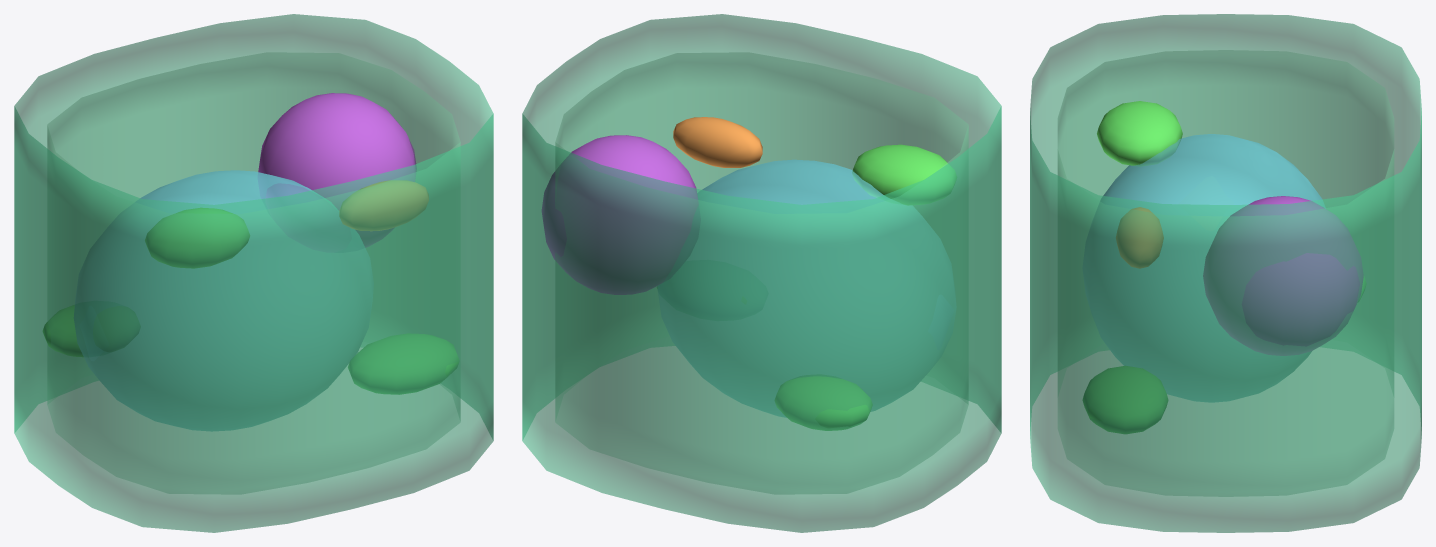
Rendered from plant_cell.glb.
3 views of the same model, side by side, from view 1: azimuth 30°, elevation 25°; view 2: azimuth 150°, elevation 25°; view 3: azimuth 270°, elevation 25° (orthographic).
Visible parts, largest first — view 1: Dinding_Sel, Membran_Sel_Tumbuhan, Vakuol_Besar, Nukleus_Tumbuhan, Kloroplas_1, Kloroplas_2, Mitokondria_Tumbuhan, Kloroplas_3; view 2: Dinding_Sel, Membran_Sel_Tumbuhan, Vakuol_Besar, Nukleus_Tumbuhan, Kloroplas_2, Kloroplas_3, Mitokondria_Tumbuhan; view 3: Dinding_Sel, Membran_Sel_Tumbuhan, Vakuol_Besar, Nukleus_Tumbuhan, Kloroplas_1, Kloroplas_2, Mitokondria_Tumbuhan.
Boxes of the visible parts, x1=… form: Dinding_Sel: x1=14, y1=14, x2=493, y2=532; Membran_Sel_Tumbuhan: x1=47, y1=52, x2=460, y2=493; Vakuol_Besar: x1=74, y1=170, x2=373, y2=431; Nukleus_Tumbuhan: x1=258, y1=93, x2=416, y2=247; Kloroplas_1: x1=348, y1=333, x2=459, y2=394; Kloroplas_2: x1=145, y1=207, x2=249, y2=268; Mitokondria_Tumbuhan: x1=339, y1=180, x2=428, y2=230; Kloroplas_3: x1=42, y1=305, x2=83, y2=356; Dinding_Sel: x1=522, y1=14, x2=1001, y2=532; Membran_Sel_Tumbuhan: x1=555, y1=52, x2=968, y2=493; Vakuol_Besar: x1=657, y1=159, x2=956, y2=417; Nukleus_Tumbuhan: x1=541, y1=135, x2=698, y2=294; Kloroplas_2: x1=852, y1=144, x2=956, y2=205; Kloroplas_3: x1=775, y1=376, x2=872, y2=430; Mitokondria_Tumbuhan: x1=673, y1=117, x2=762, y2=167; Dinding_Sel: x1=1030, y1=14, x2=1421, y2=532; Membran_Sel_Tumbuhan: x1=1057, y1=50, x2=1394, y2=496; Vakuol_Besar: x1=1083, y1=134, x2=1325, y2=402; Nukleus_Tumbuhan: x1=1203, y1=196, x2=1363, y2=355; Kloroplas_1: x1=1083, y1=366, x2=1167, y2=433; Kloroplas_2: x1=1097, y1=101, x2=1182, y2=166; Mitokondria_Tumbuhan: x1=1116, y1=207, x2=1163, y2=268.
Size of the model in its own units: 1.58 by 1.26 by 1.36.
